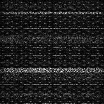lte: (1, 67, 104, 73), (1, 11, 104, 14), (1, 27, 104, 29)
